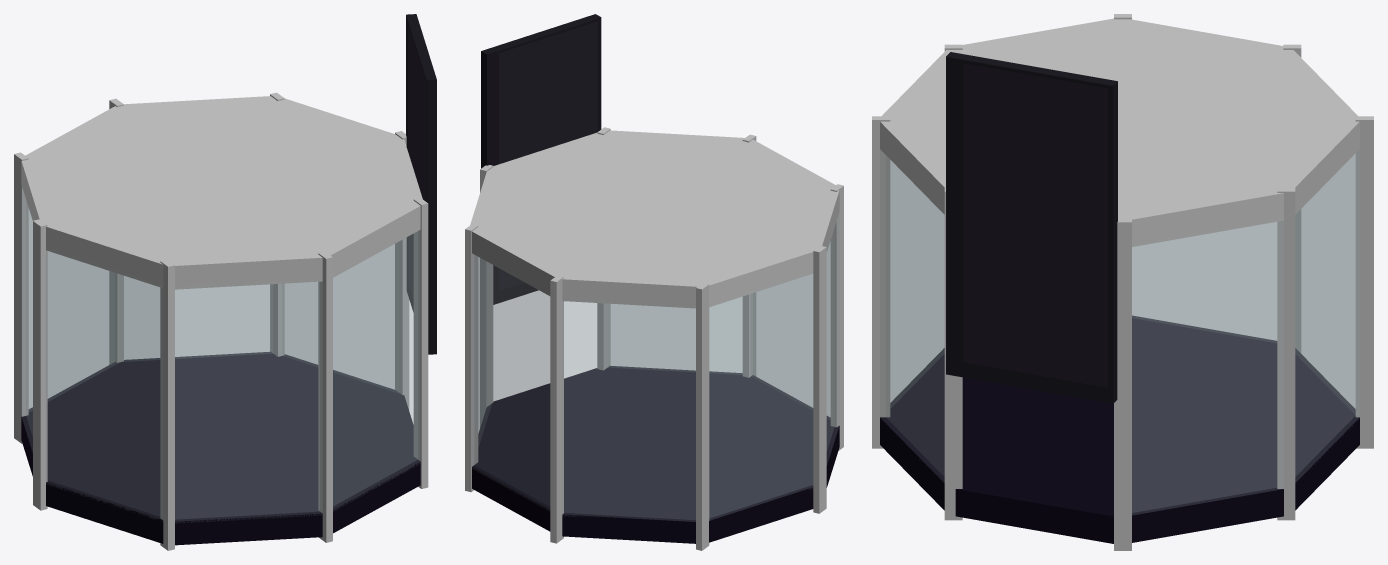
The model's file is Elevator Ver 1 (10-70).fbx.
3 views of the same model, side by side, from view 1: azimuth 30°, elevation 25°; view 2: azimuth 150°, elevation 25°; view 3: azimuth 270°, elevation 25° (orthographic). The views are drawn at different scales.
Visible parts, largest first — view 1: elevator_pipe, pasted__ele_base, ele_base, pasted__Ele_ridge (×7), pCube1, Ele_ridge; view 2: elevator_pipe, pasted__ele_base, ele_base, pasted__Ele_ridge (×7), pCube1, Ele_ridge; view 3: elevator_pipe, ele_base, pCube1, pasted__ele_base, pasted__Ele_ridge (×5), Ele_ridge.
Boxes of the visible parts, x1,y1,x2,y2 form: elevator_pipe: (21, 183, 420, 522); pasted__ele_base: (21, 96, 422, 289); ele_base: (21, 351, 420, 545); pasted__Ele_ridge (×7): (14, 92, 428, 550); pCube1: (406, 14, 436, 354); Ele_ridge: (318, 251, 332, 542); elevator_pipe: (472, 213, 839, 521); pasted__ele_base: (470, 130, 839, 308); ele_base: (472, 366, 839, 543); pasted__Ele_ridge (×7): (465, 127, 843, 550); pCube1: (481, 14, 601, 304); Ele_ridge: (742, 134, 756, 377); elevator_pipe: (880, 149, 1359, 514); ele_base: (880, 315, 1359, 543); pCube1: (946, 52, 1117, 403); pasted__ele_base: (880, 18, 1359, 246); pasted__Ele_ridge (×5): (944, 44, 1373, 550); Ele_ridge: (872, 116, 890, 448).
Bounding box in the file's own units: 41.51 × 42.79 × 41.5.
